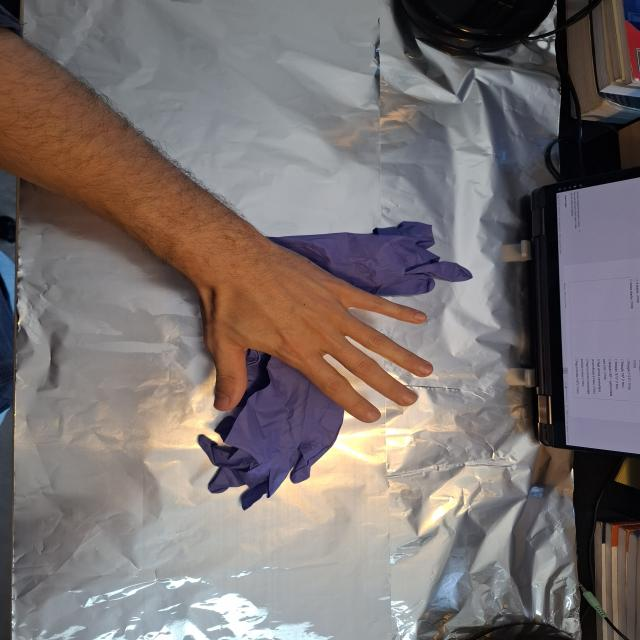glove_off: (195, 256, 436, 425)
